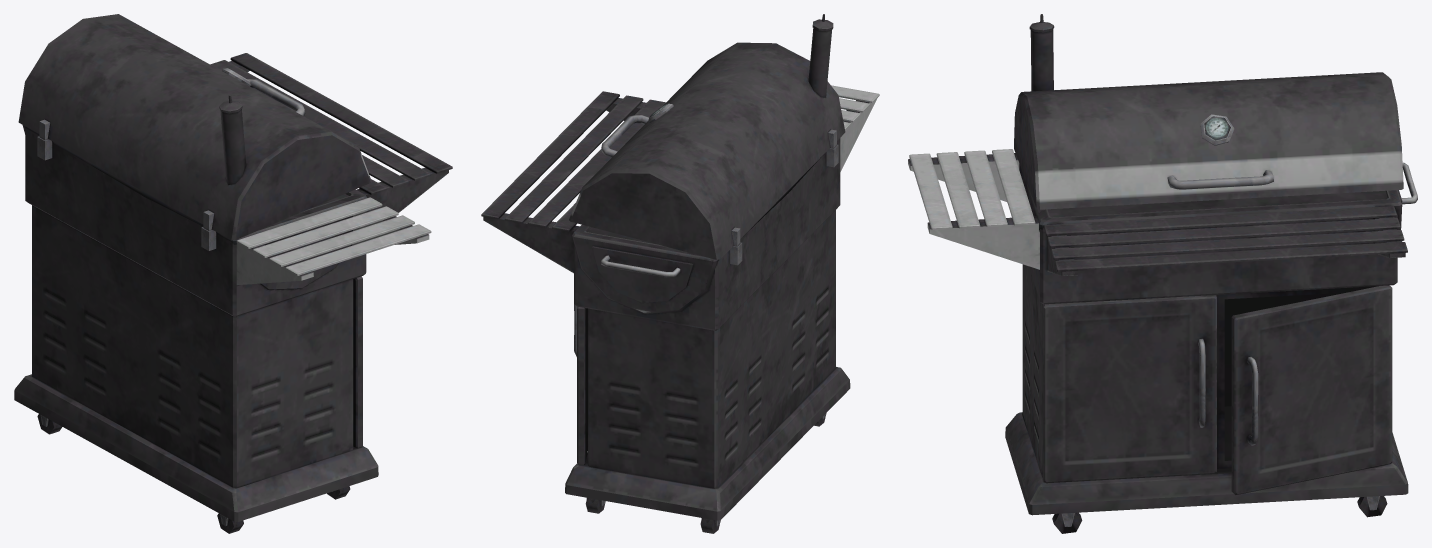
The model's file is ItemSpot.fbx.
3 renders of one model, left to right at view 1: azimuth 30°, elevation 25°; view 2: azimuth 150°, elevation 25°; view 3: azimuth 270°, elevation 25°, orthographic. The views are drawn at different scales.
Visible parts, largest first — view 1: ItemBox_BarbequeGrill_01; view 2: ItemBox_BarbequeGrill_01; view 3: ItemBox_BarbequeGrill_01.
Part boxes in pixels (<box>): ItemBox_BarbequeGrill_01: <box>14,14,452,533</box>; ItemBox_BarbequeGrill_01: <box>481,14,879,533</box>; ItemBox_BarbequeGrill_01: <box>908,14,1417,533</box>.
Size of the model in its own units: 1.16 by 1.72 by 1.74.
1 material, 1 textured.
